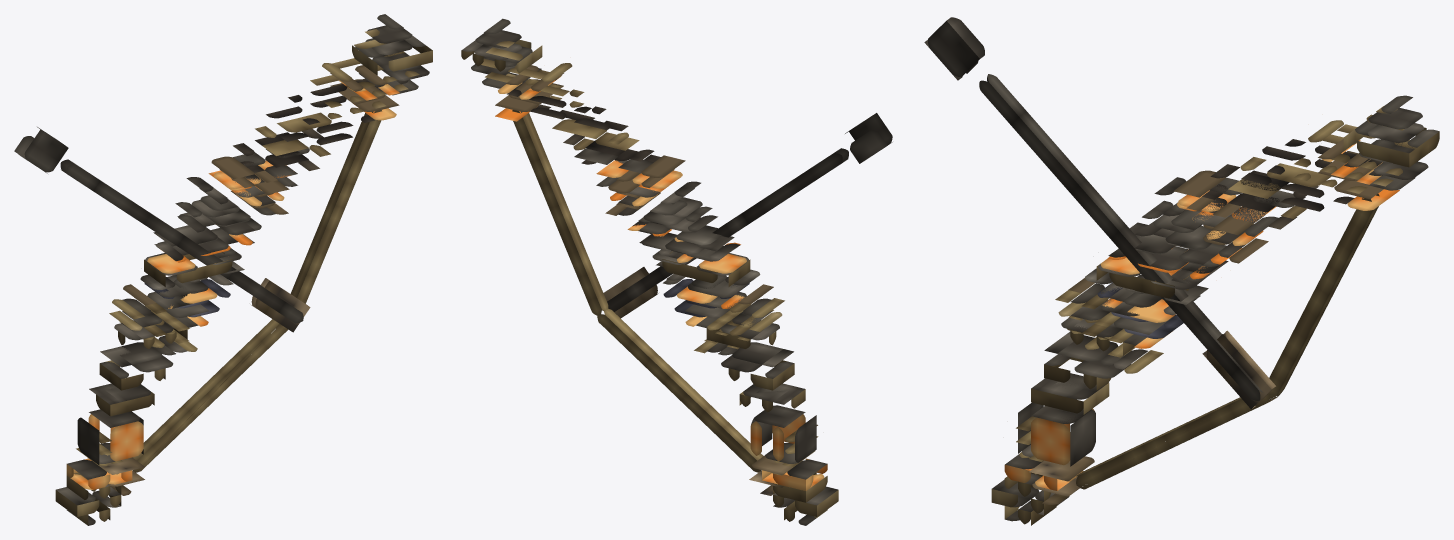
The model's file is long_drop_pulling_1.obj.
3 views of the same model, side by side, from view 1: azimuth 30°, elevation 25°; view 2: azimuth 150°, elevation 25°; view 3: azimuth 330°, elevation 25° (orthographic). The views are drawn at different scales.
Parts seen in each view (by area): view 1: lit, fire; view 2: lit, fire; view 3: lit, fire.
Boxes of the visible parts, left/top/right/bottom form: lit: left=14, top=14, right=432, bottom=525; fire: left=251, top=38, right=418, bottom=332; lit: left=461, top=18, right=892, bottom=525; fire: left=474, top=43, right=658, bottom=318; lit: left=924, top=17, right=1439, bottom=525; fire: left=1202, top=123, right=1423, bottom=409.
Bounding box in the file's own units: 1.16 × 1.13 × 0.1375.
